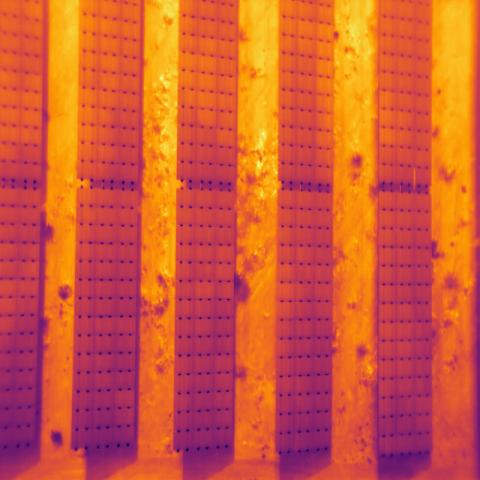fault: (194, 280, 216, 301)
